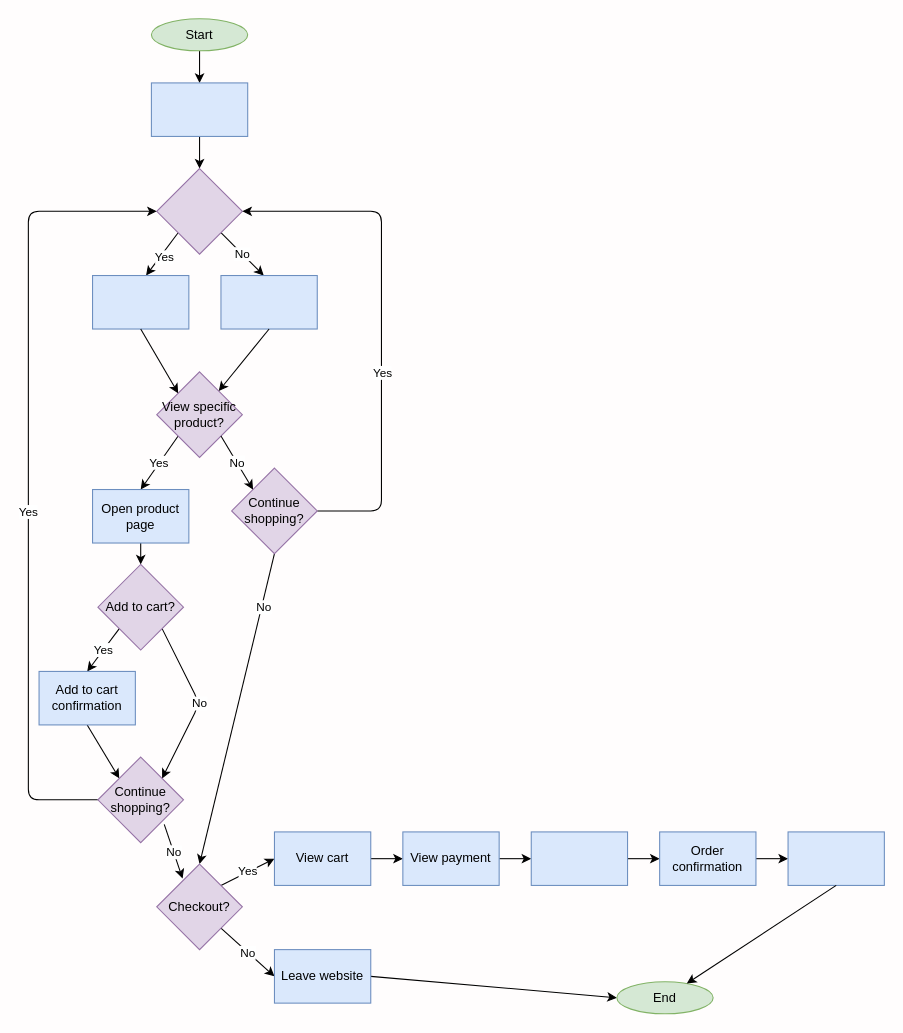
The diagram is 903 pixels wide and 1033 high, and some of its shapes have lost their labels. Here are the shapes that lost their labels. From the top down, the centre of each, then its label:
At (199,109): "Enter Website".
At (199,210): "Search for Product?".
At (140,301): "Enter search input".
At (268,301): "Browse products".
At (579,858): "Enter payment information".
At (835,858): "Receive email".
